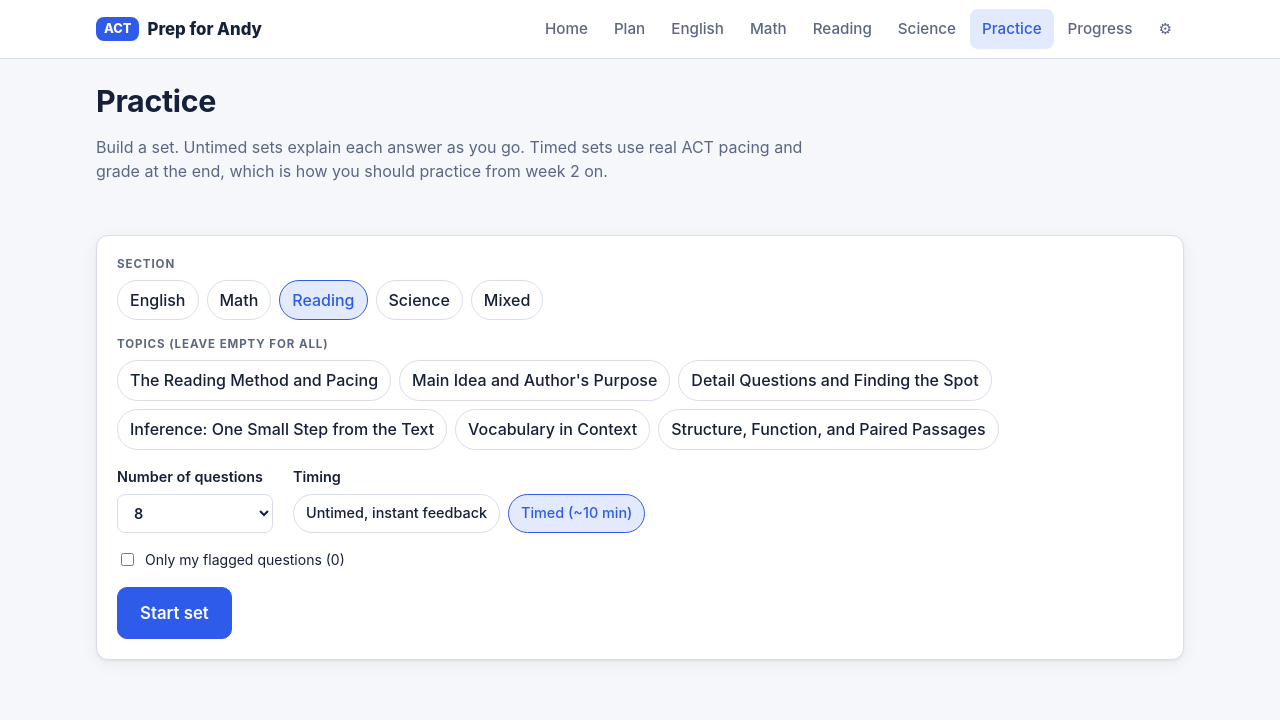
quiz flow › timed practice set for reading shows the passage pane and grades at the end
Click the button "Start set". click: (174, 613)
box: top-left (117, 587), bottom-right (232, 639)
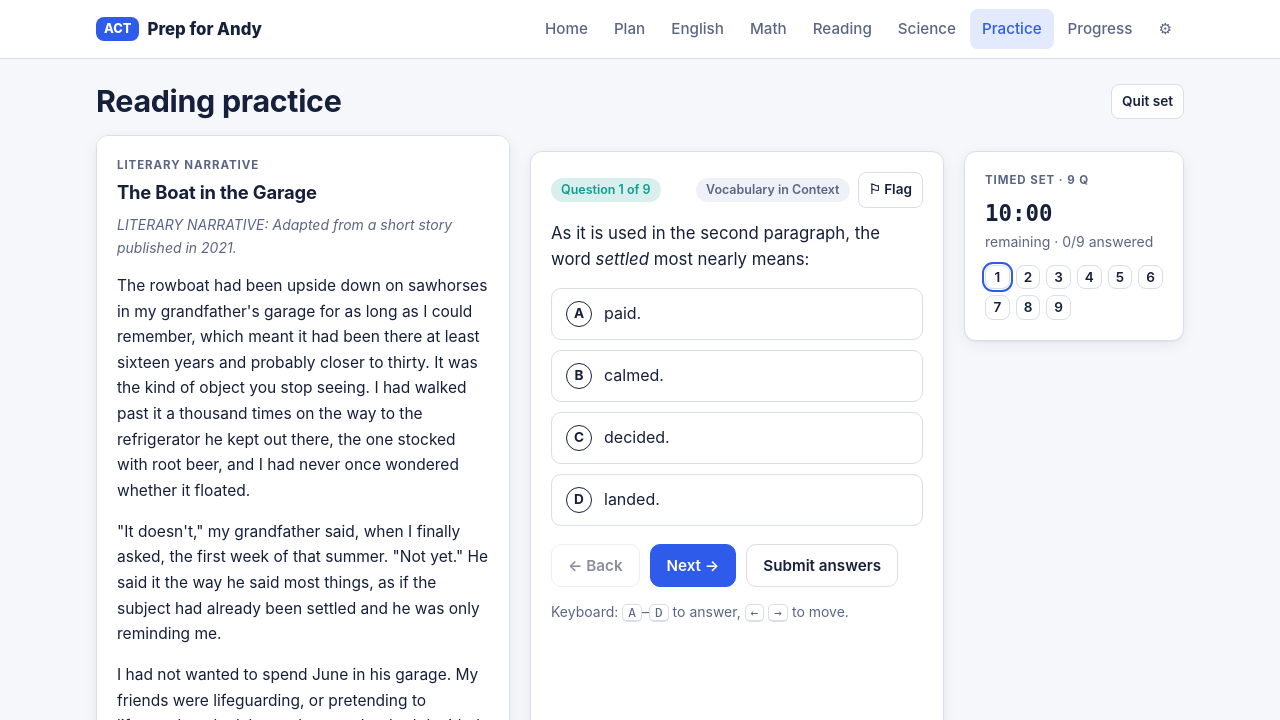
Check: the text "remaining · 0/9 answered" is shown, box top-left (985, 231), bottom-right (1163, 253)
Check: the text "Question 1 of 9" is shown, box top-left (551, 178), bottom-right (660, 202)
Note: answer with keyboard shortcut and move on
Type keys "B"
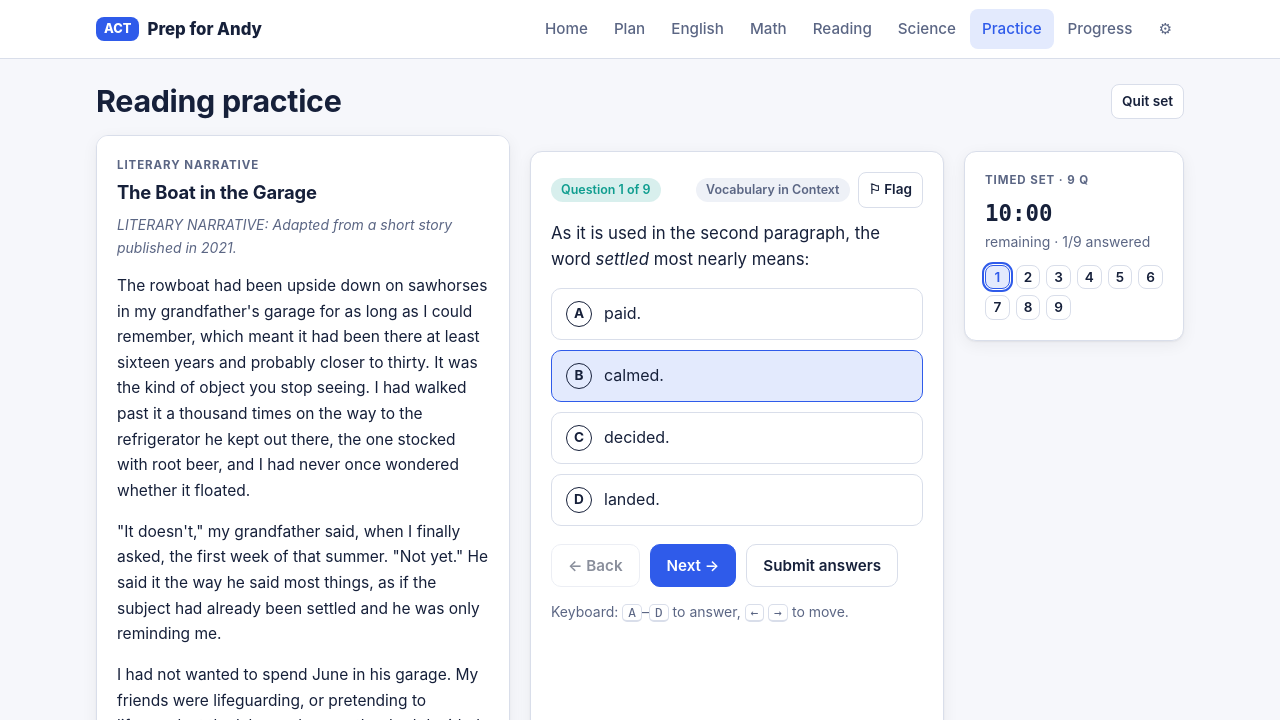
Press Arrowright
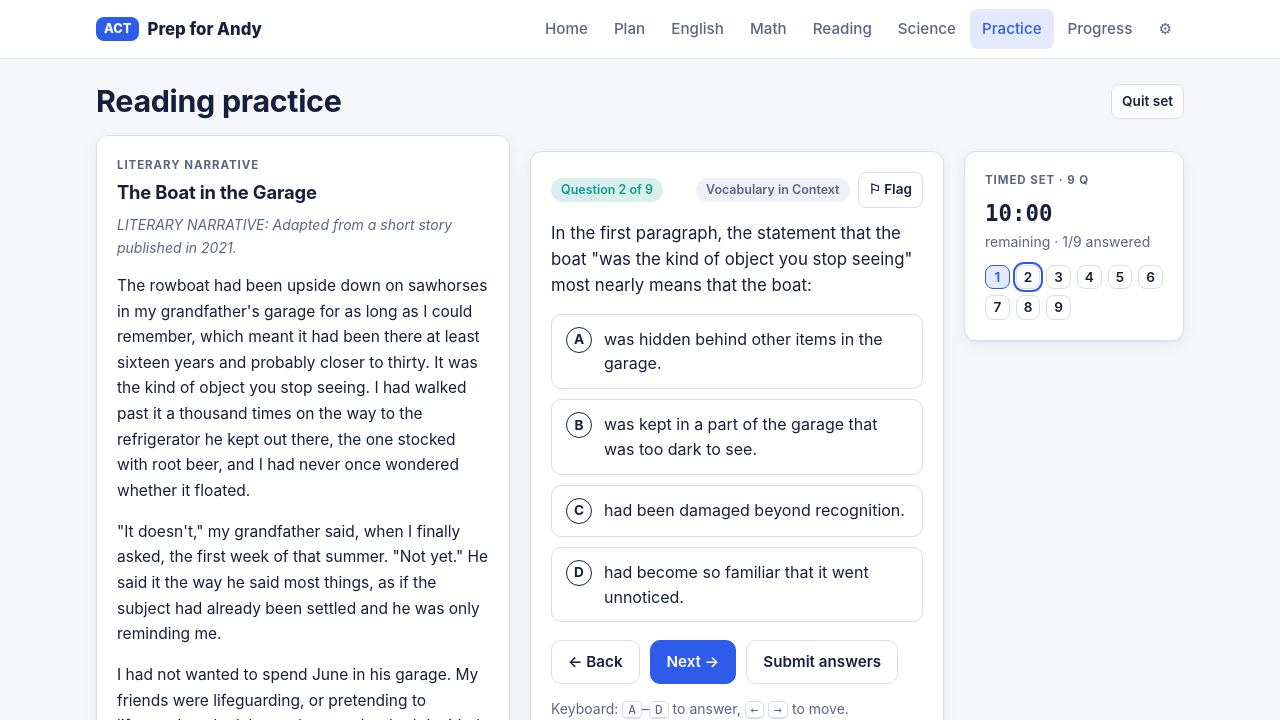
Check: the text "Question 2 of 9" is shown, box top-left (551, 178), bottom-right (663, 202)
Click the button "Submit answers". click: (822, 662)
box: top-left (746, 640), bottom-right (898, 684)
(page scrolled)
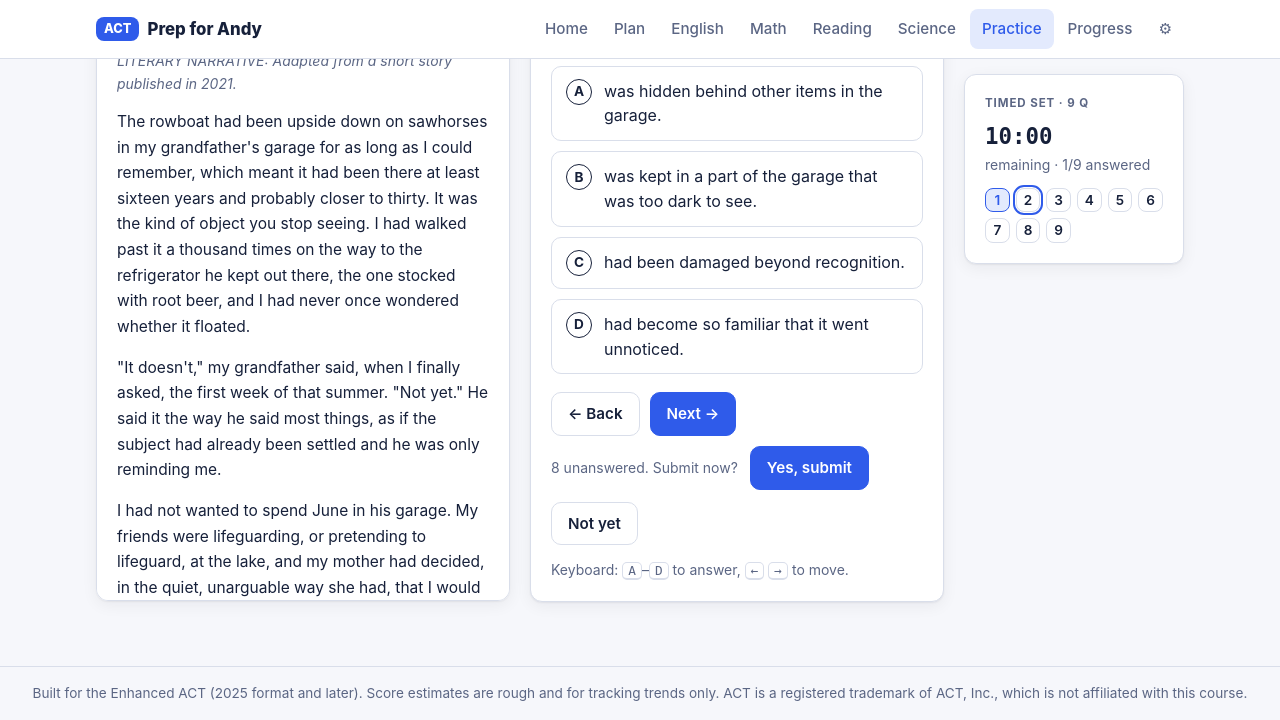
Click the button "Yes, submit". click: (809, 468)
box: top-left (750, 446), bottom-right (869, 490)
(page scrolled)
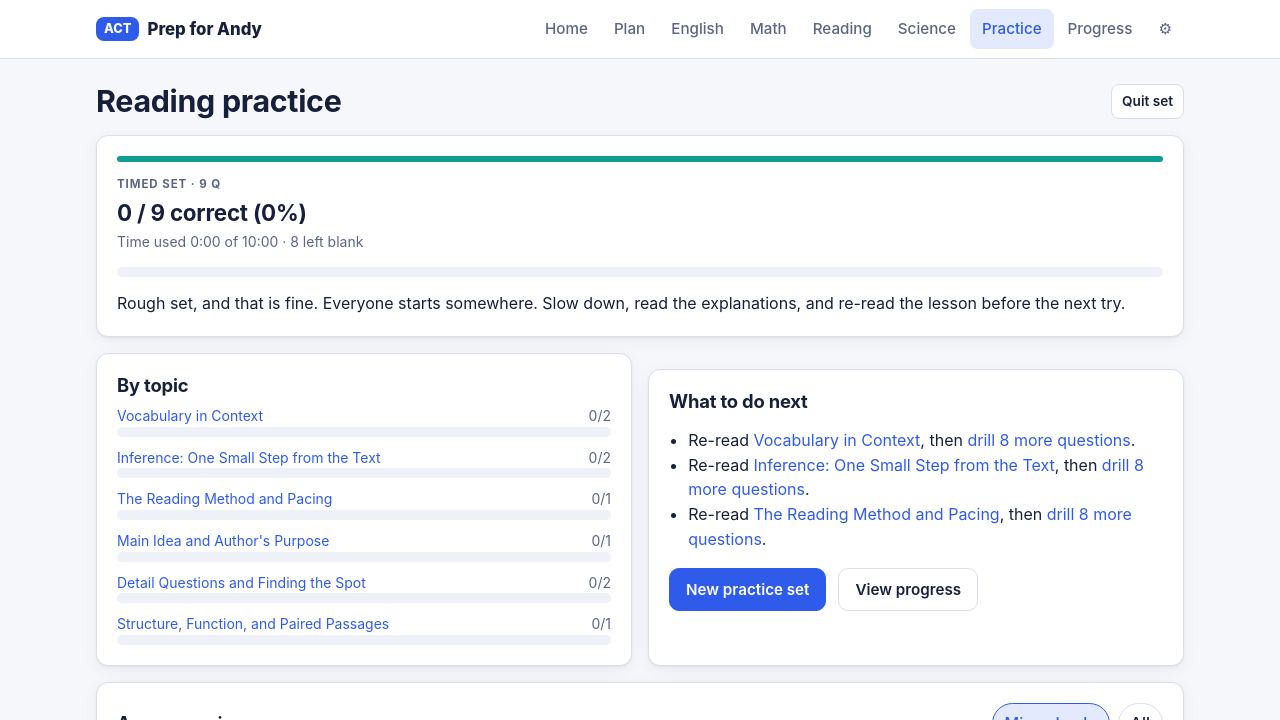
Check: the text "Time used 0:00 of 10:00 · 8 left blank" is shown, box top-left (117, 231), bottom-right (363, 253)
